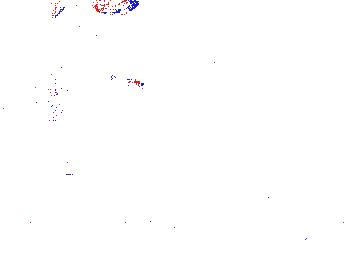X-ray fish: (31, 86, 69, 133)
glassfish: (190, 51, 299, 109)
red belly glassfish: (105, 70, 146, 91)
redtail glassfish: (47, 1, 139, 22)
